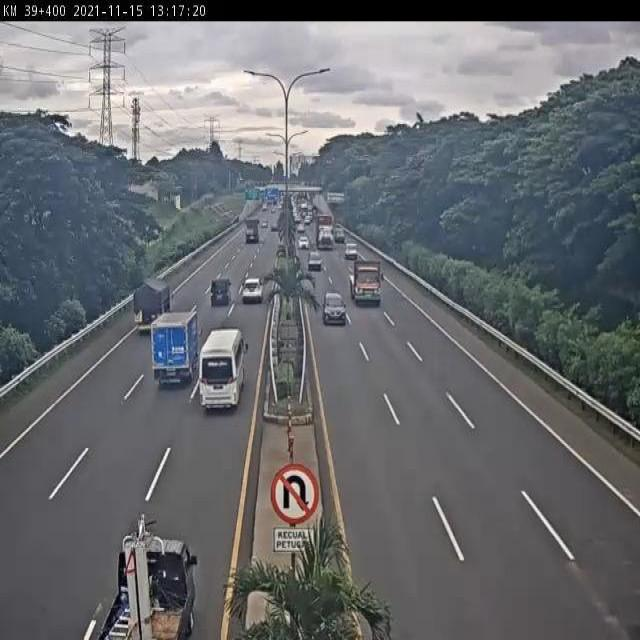bus-s-: (196, 328, 245, 415)
car: (322, 292, 347, 331)
truck-m-: (149, 312, 196, 387), (131, 280, 174, 333), (348, 253, 383, 308)
